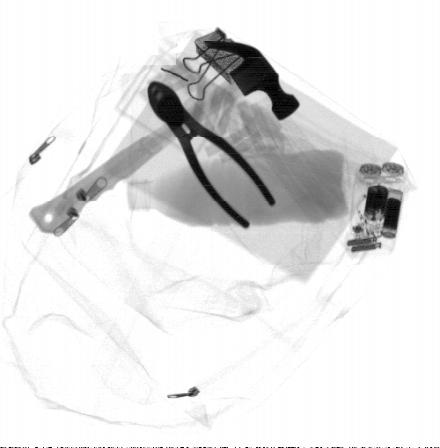Hammer: (29, 41, 300, 233)
Pliers: (148, 82, 277, 230)
